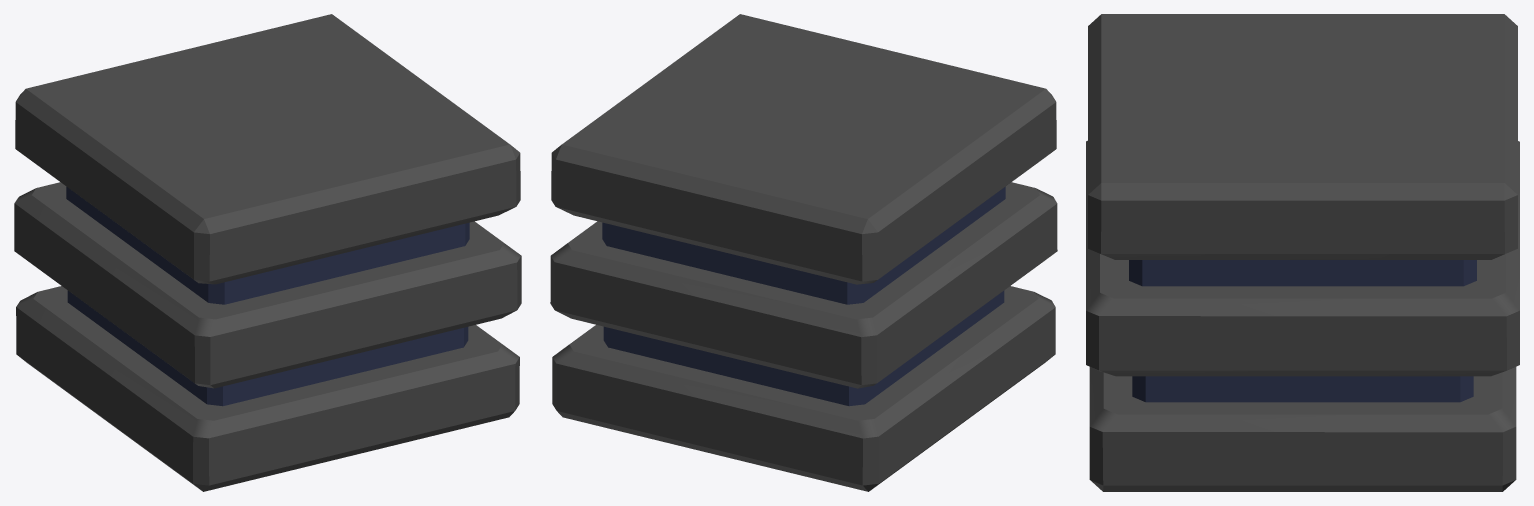
Rendered from GEO_Transformer.fbx.
3 renders of one model, left to right at view 1: azimuth 30°, elevation 25°; view 2: azimuth 150°, elevation 25°; view 3: azimuth 270°, elevation 25°, orthographic. The views are drawn at different scales.
Visible parts, largest first — view 1: GEO_Transformer; view 2: GEO_Transformer; view 3: GEO_Transformer.
Boxes of the visible parts, left/top/right/bottom form: GEO_Transformer: left=14, top=14, right=521, bottom=491; GEO_Transformer: left=550, top=14, right=1057, bottom=491; GEO_Transformer: left=1086, top=14, right=1519, bottom=491.
Bounding box in the file's own units: 5 × 4 × 5.09.
